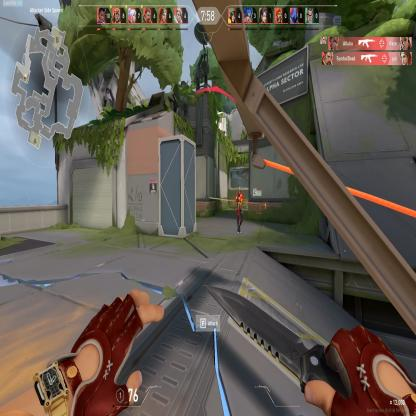enemy: (234, 185, 243, 235)
